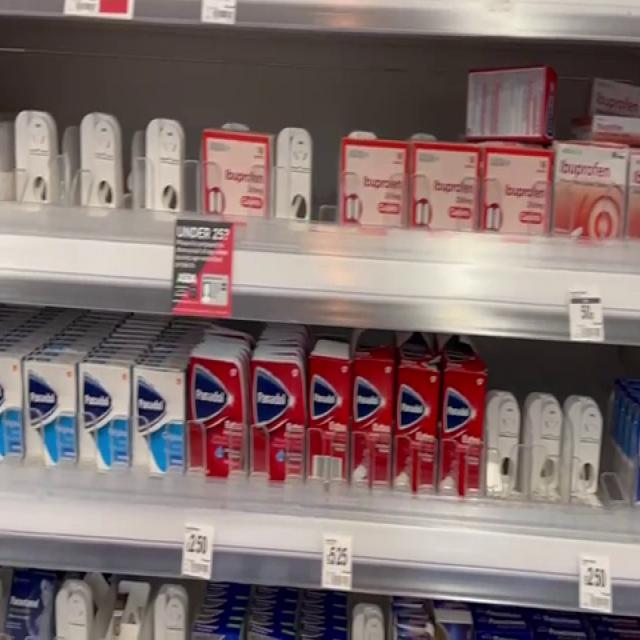Other: (539, 142, 635, 248), (245, 339, 310, 484), (183, 353, 252, 480), (464, 65, 560, 153), (21, 352, 77, 488), (393, 357, 445, 498), (480, 145, 553, 243), (75, 360, 133, 480), (202, 125, 270, 227), (350, 353, 398, 492), (128, 365, 185, 480), (408, 145, 485, 230), (343, 134, 408, 234), (308, 355, 354, 492), (441, 360, 484, 502)
